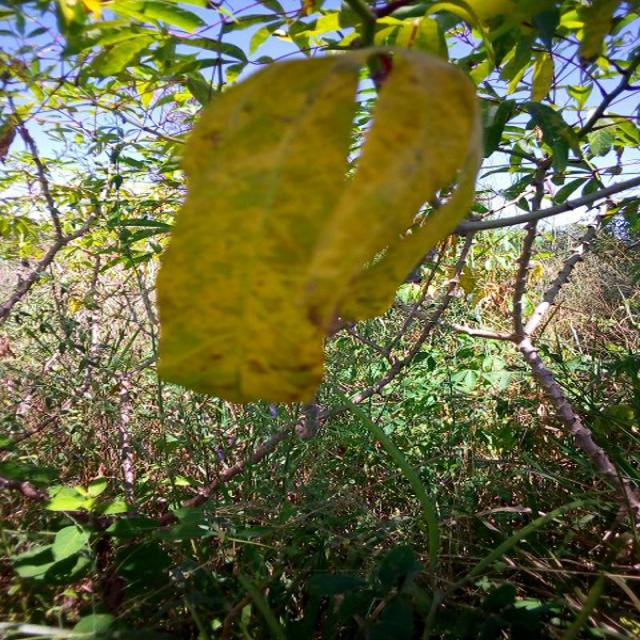cassava leaf: (154, 44, 483, 405)
